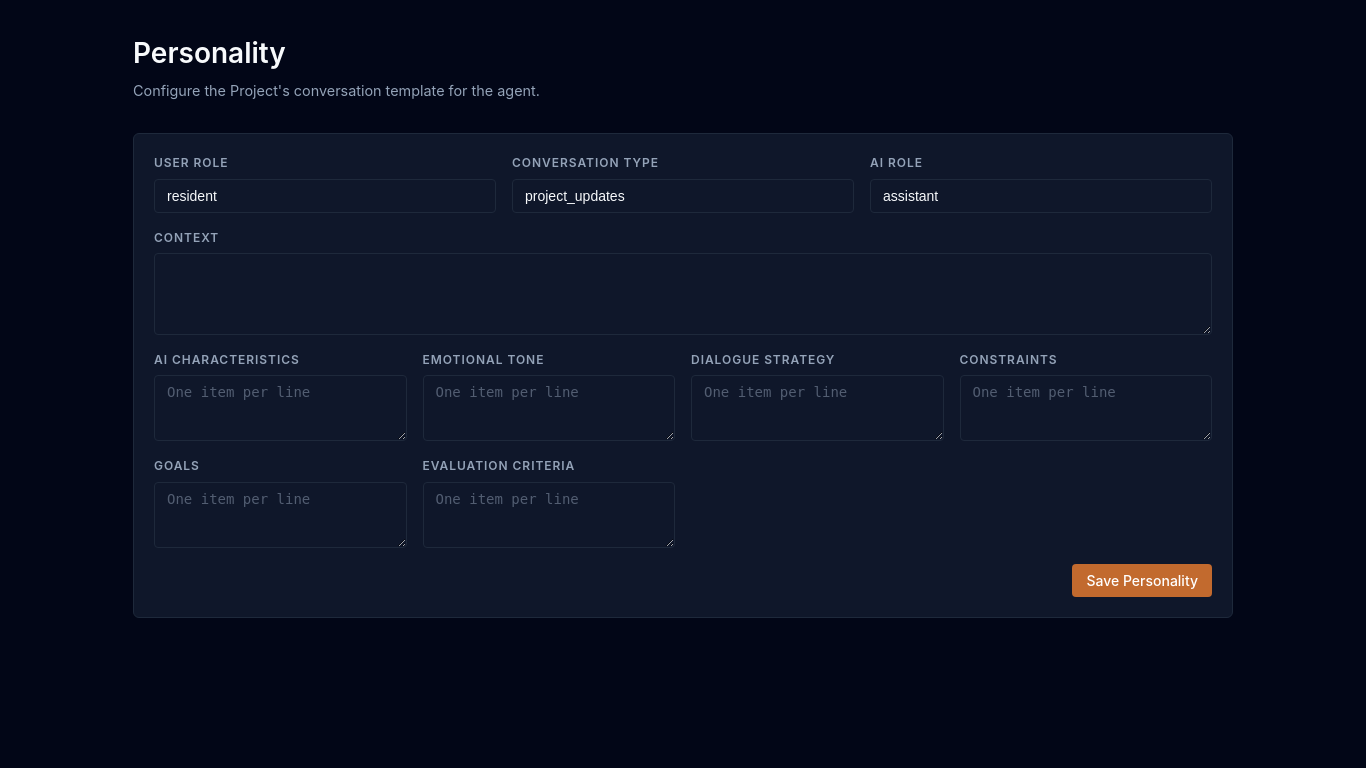
Personality page › saves updates through the personality facade
Replace the text in the field labelled "AI Role" with "site_assistant" at (1041, 196), box [870,179,1212,213]
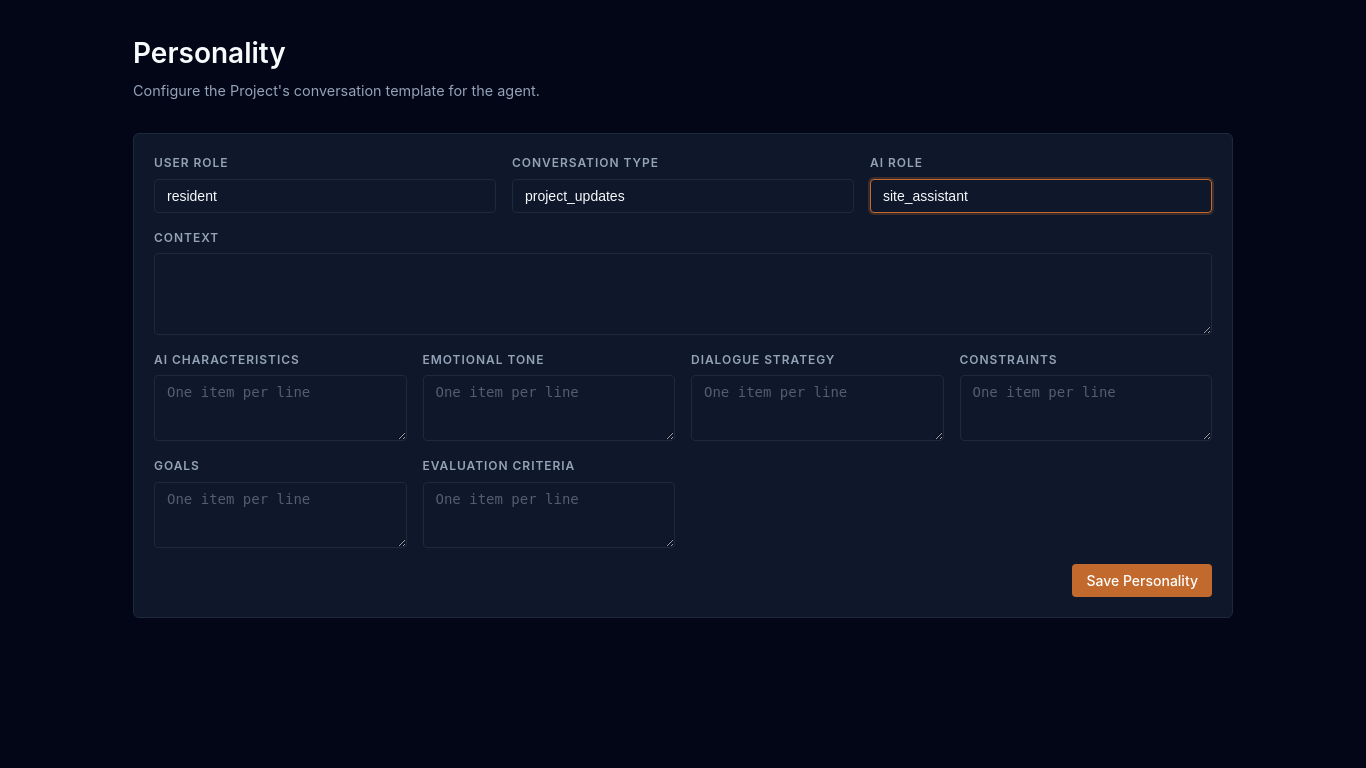
Click the button "Save Personality" at (1142, 580), box [1072,564,1212,597]
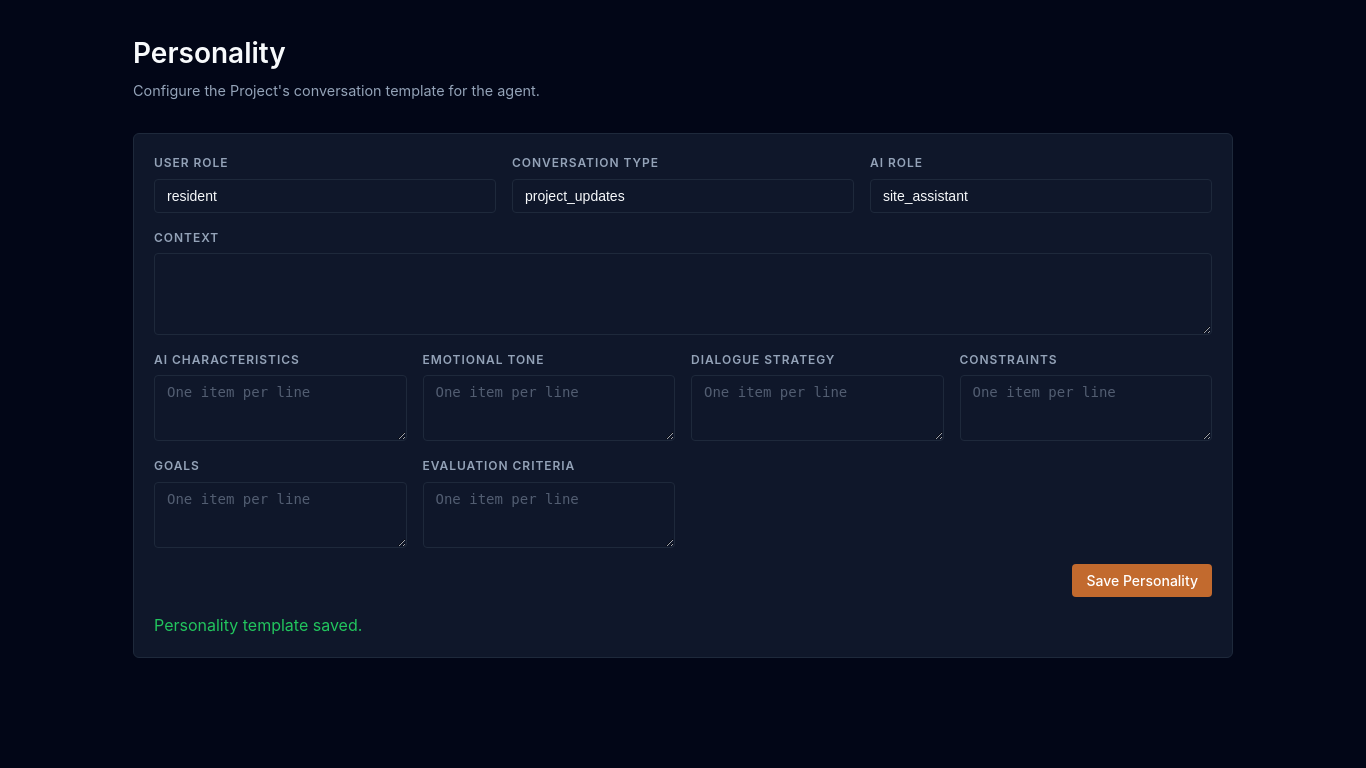
Now the text "Personality template saved." is shown, box [154,615,362,635]
